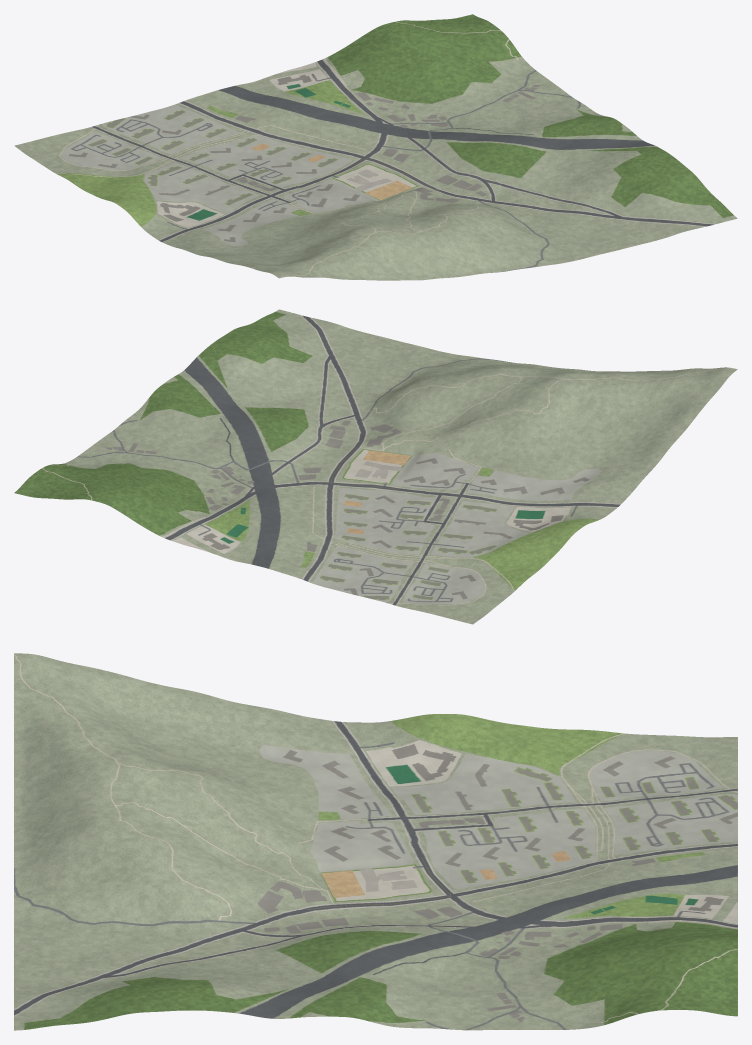
3 views of the same model, one above another, from view 1: azimuth 30°, elevation 25°; view 2: azimuth 150°, elevation 25°; view 3: azimuth 270°, elevation 25° (orthographic). The views are drawn at different scales.
Parts seen in each view (by area): view 1: ground-area, ground-school; view 2: ground-area, ground-school; view 3: ground-area, ground-school.
Part boxes in pixels (x1,y1,x2,y2): ground-area: (14, 14, 737, 280); ground-school: (308, 153, 440, 204); ground-area: (14, 309, 737, 624); ground-school: (310, 438, 442, 498); ground-area: (14, 653, 737, 1030); ground-school: (304, 847, 450, 910).
Bounding box in the file's own units: 1088 × 143 × 1088.
2 materials, 2 textured.
